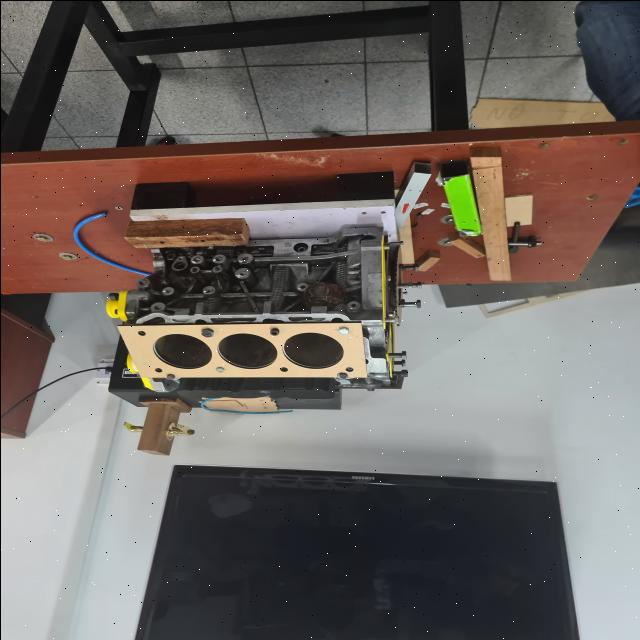vista1: (117, 322, 366, 376)
